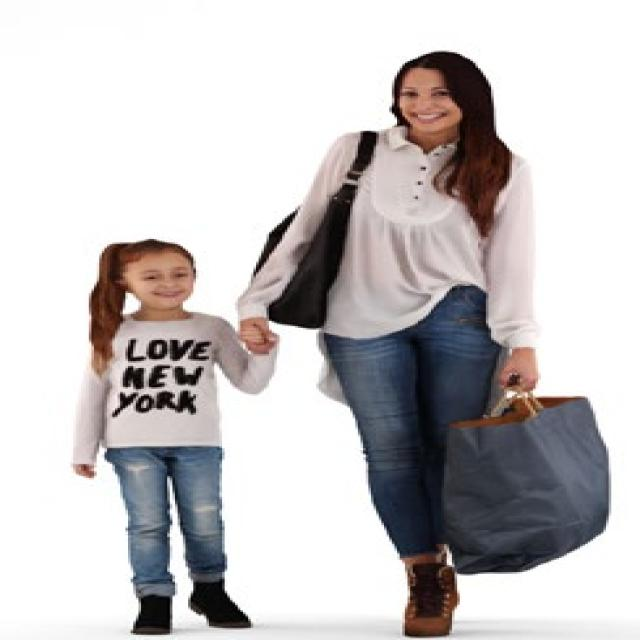standing: (237, 48, 546, 640), (66, 236, 244, 636)
